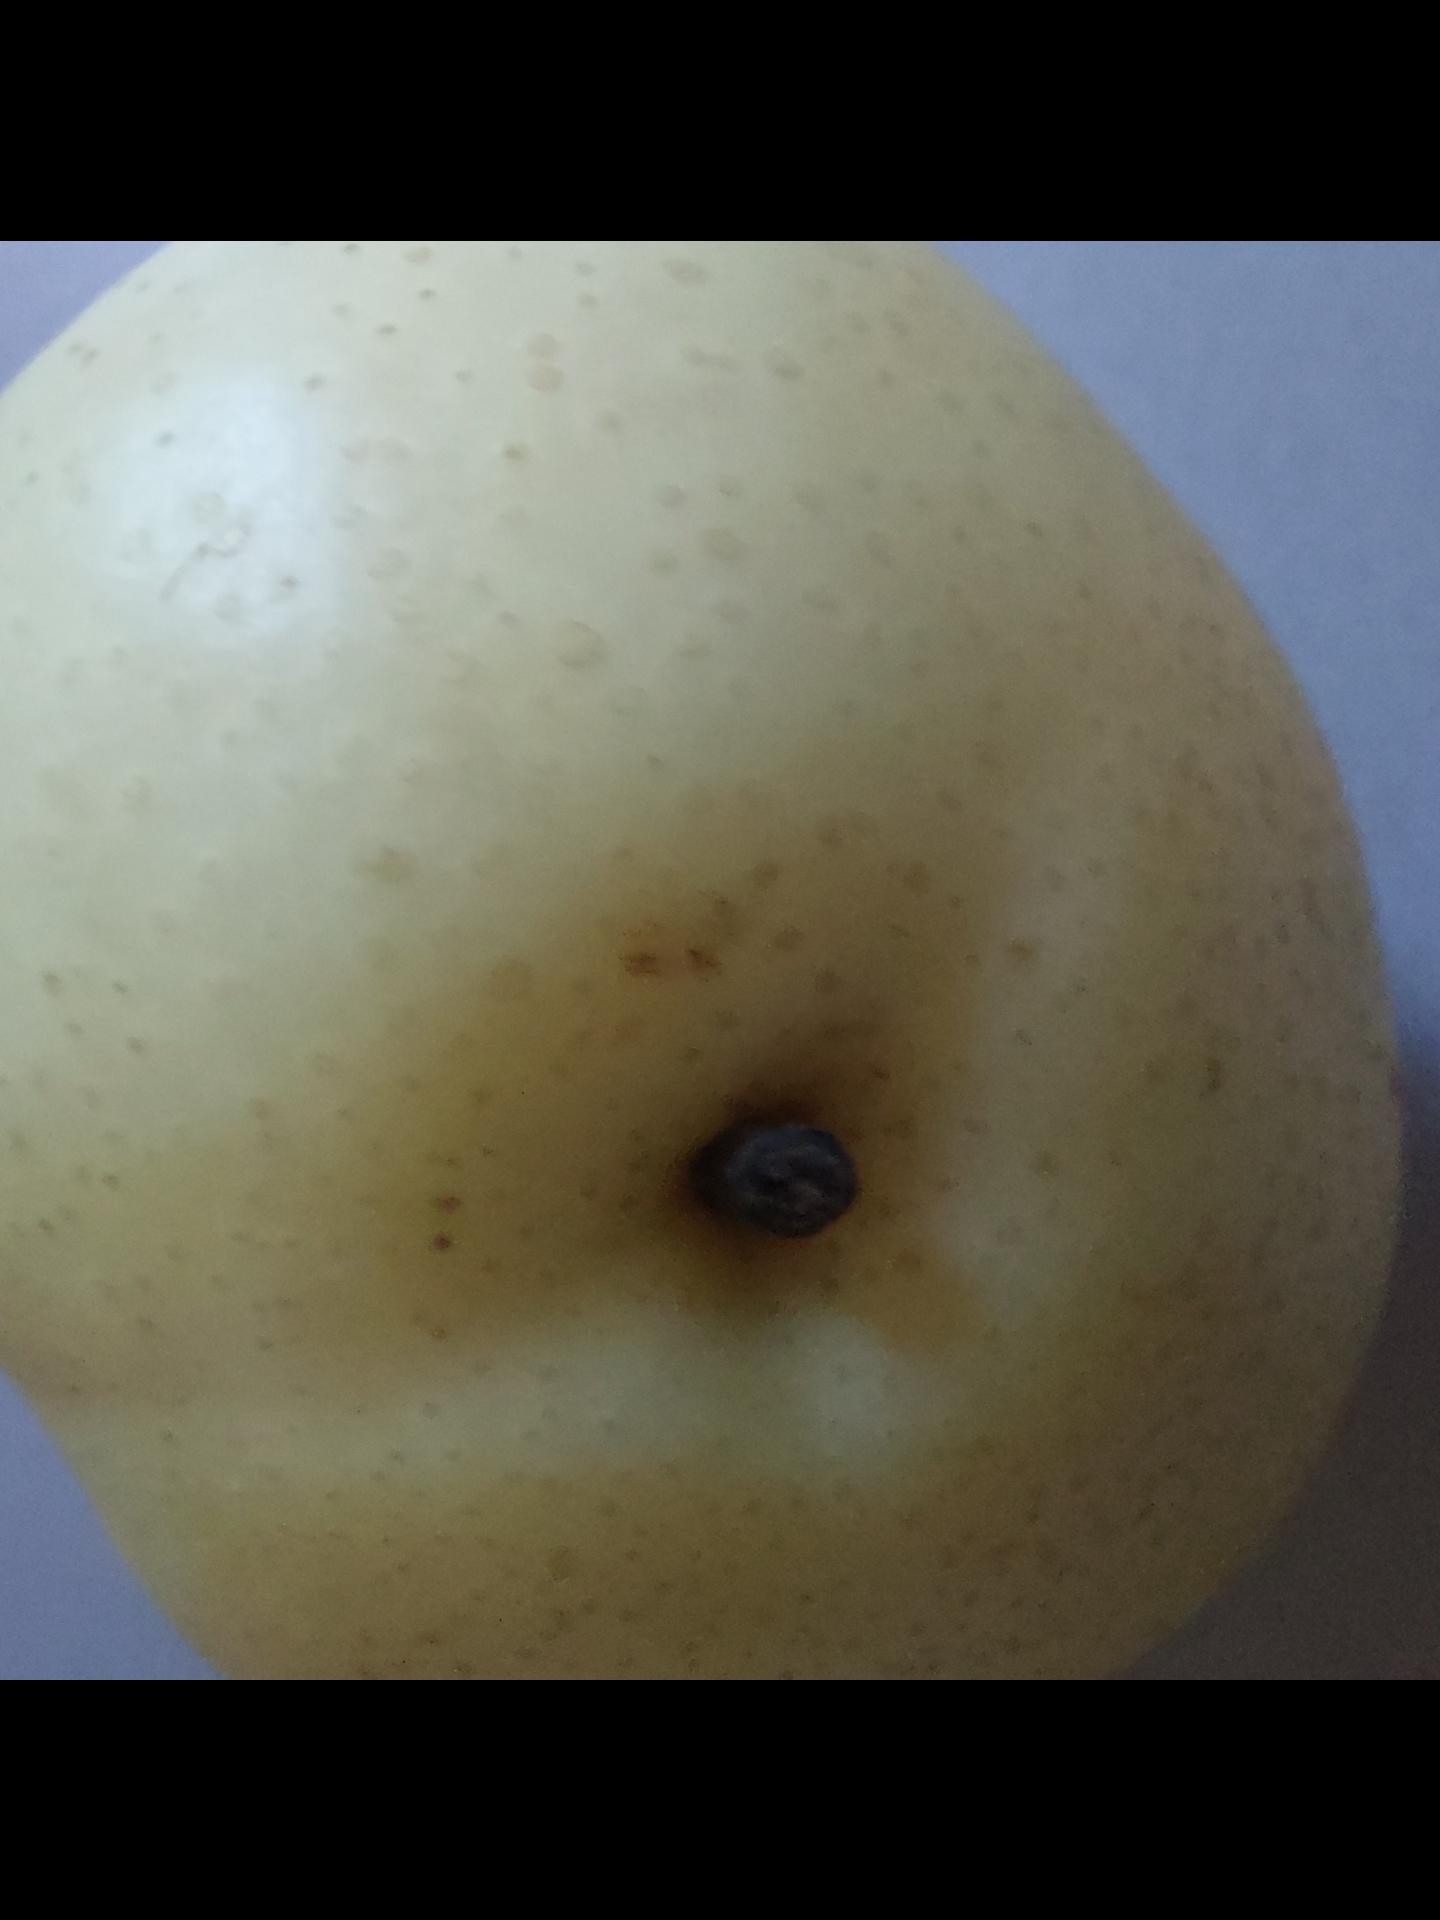Good Pear: (0, 240, 1392, 1680)
